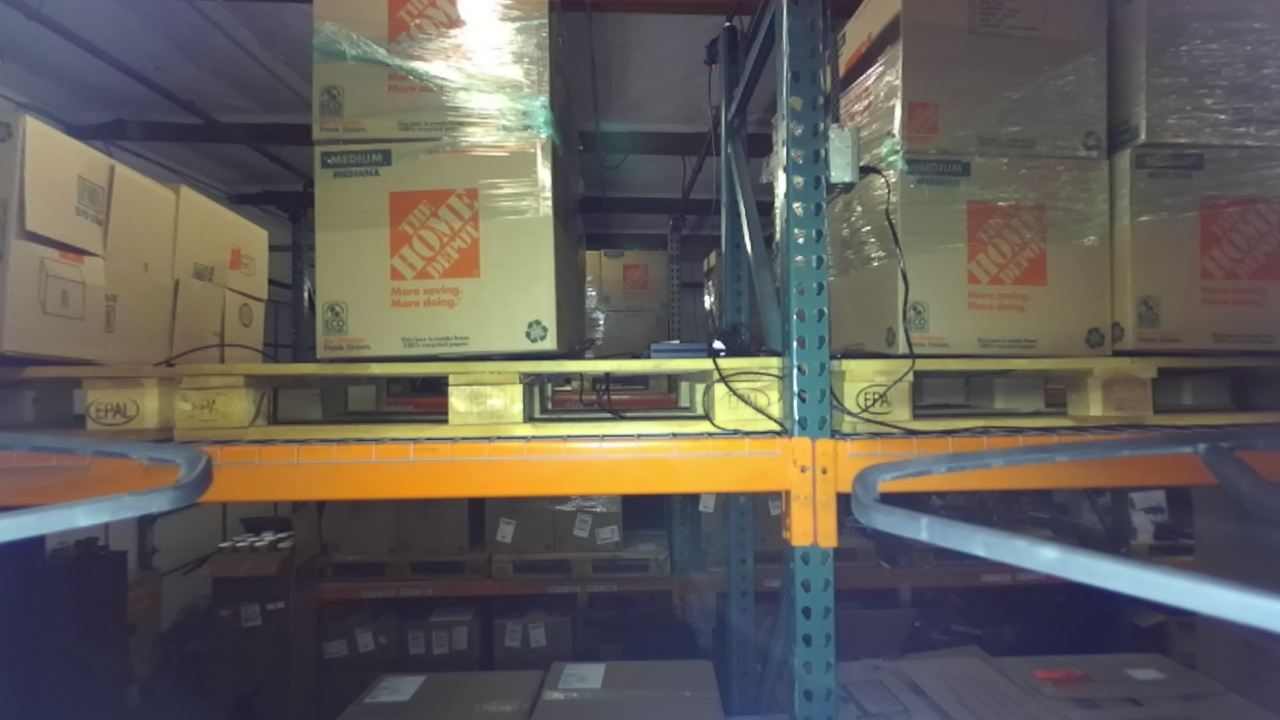box: (297, 131, 582, 383), (864, 168, 1127, 379), (1101, 130, 1279, 378), (293, 1, 585, 151), (860, 5, 1111, 159), (1095, 1, 1280, 161)
